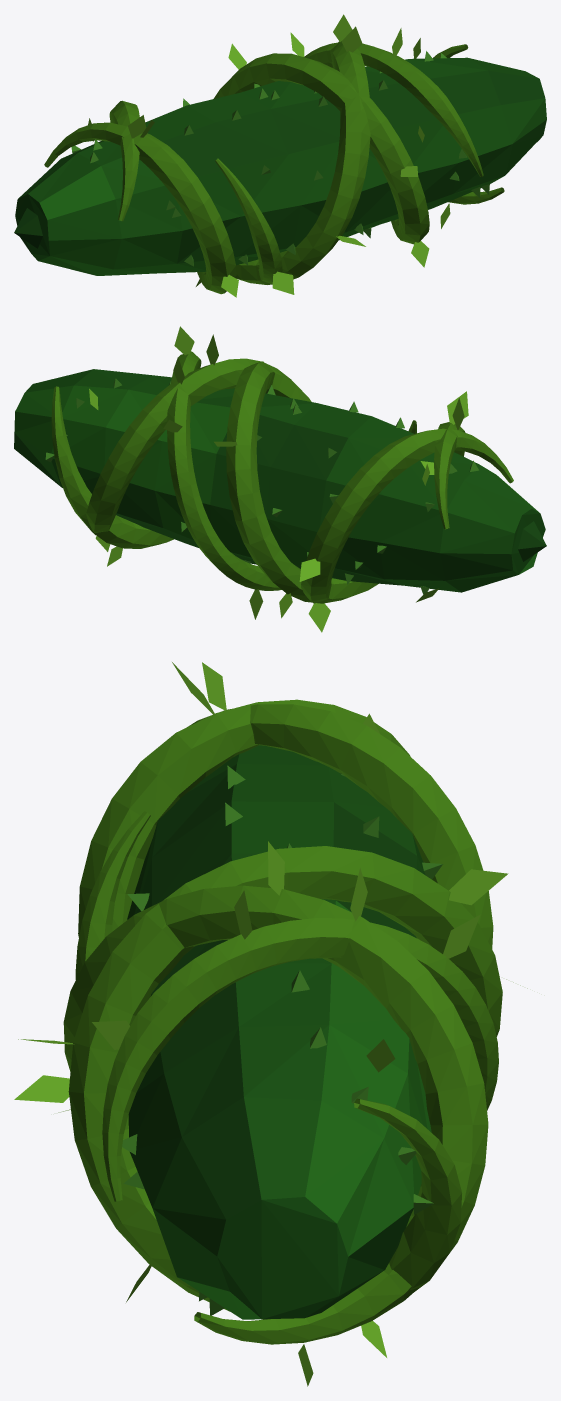
The model's file is cucumber_vined.obj.
3 renders of one model, top to bottom at view 1: azimuth 30°, elevation 25°; view 2: azimuth 150°, elevation 25°; view 3: azimuth 270°, elevation 25°, orthographic. The views are drawn at different scales.
Visible parts, largest first — view 1: CukeV_BodyA, CukeV_Vines, CukeV_BodyC, CukeV_BodyB, CukeV_Leaves, CukeV_Bumps; view 2: CukeV_Vines, CukeV_BodyA, CukeV_BodyB, CukeV_BodyC, CukeV_Leaves, CukeV_Bumps; view 3: CukeV_Vines, CukeV_BodyA, CukeV_BodyC, CukeV_BodyB, CukeV_Leaves, CukeV_Bumps.
Part boxes in pixels (box(x1,y1,x2,y2)): CukeV_BodyA: box(15, 57, 546, 263); CukeV_Vines: box(44, 41, 504, 294); CukeV_BodyC: box(14, 70, 545, 248); CukeV_BodyB: box(38, 137, 541, 275); CukeV_Leaves: box(88, 14, 450, 297); CukeV_Bumps: box(71, 51, 489, 266); CukeV_Vines: box(51, 351, 513, 603); CukeV_BodyA: box(14, 369, 545, 592); CukeV_BodyB: box(14, 385, 539, 564); CukeV_BodyC: box(116, 415, 546, 585); CukeV_Leaves: box(89, 326, 468, 632); CukeV_Bumps: box(45, 378, 478, 594); CukeV_Vines: box(63, 699, 502, 1344); CukeV_BodyA: box(127, 745, 425, 1319); CukeV_BodyC: box(151, 764, 416, 1317); CukeV_BodyB: box(177, 901, 431, 1319); CukeV_Leaves: box(14, 662, 527, 1386); CukeV_Bumps: box(122, 765, 442, 1315).
Bounding box in the file's own units: 5.65 × 2.57 × 2.58.
